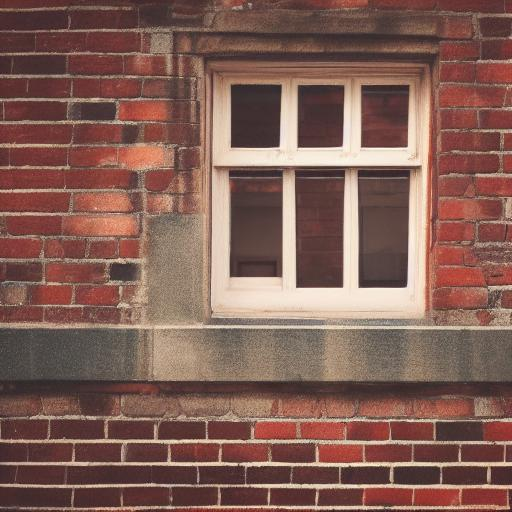Window: (1, 8, 512, 389)
